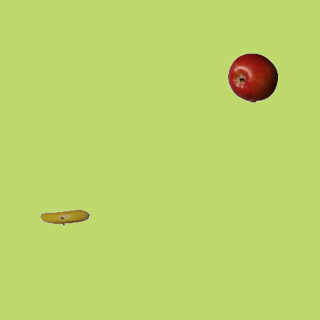Apple Braeburn: (227, 52, 277, 102)
Banana: (39, 192, 89, 242)
